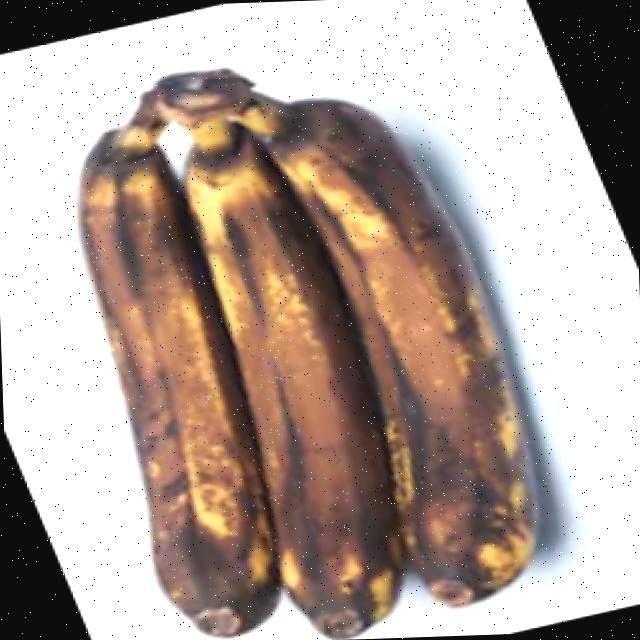rotten banana: (43, 45, 571, 640), (253, 45, 562, 620), (169, 77, 401, 640), (62, 82, 282, 640)
